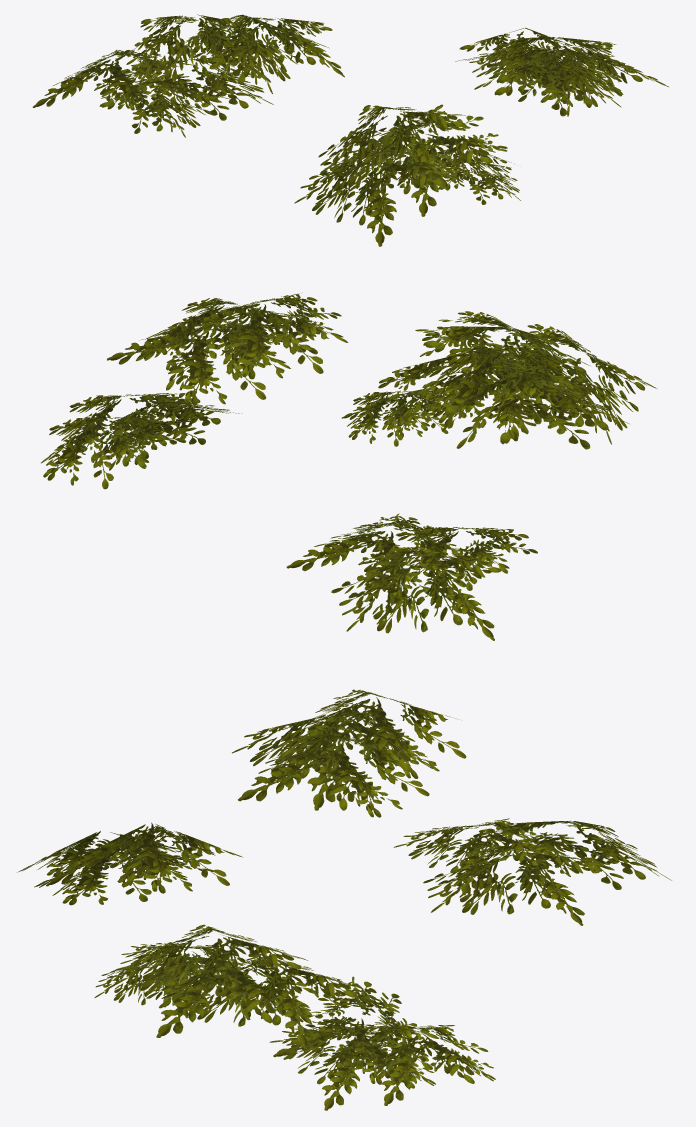
The model's file is fxmg_shuye6.FBX.
3 renders of one model, top to bottom at view 1: azimuth 30°, elevation 25°; view 2: azimuth 150°, elevation 25°; view 3: azimuth 270°, elevation 25°, orthographic. The views are drawn at different scales.
Visible parts, largest first — view 1: KLMSM_shuye6; view 2: KLMSM_shuye6; view 3: KLMSM_shuye6.
Boxes of the visible parts, x1,y1,x2,y2 form: KLMSM_shuye6: (32, 14, 668, 246); KLMSM_shuye6: (41, 292, 656, 640); KLMSM_shuye6: (17, 689, 671, 1110).
Bounding box in the file's own units: 1787 × 525 × 1678.
